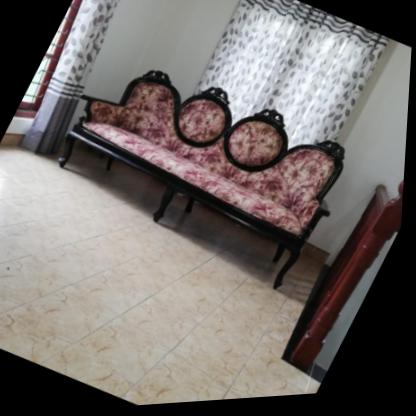Ceramic floor: (0, 150, 325, 408)
Curtains: (199, 0, 390, 146), (23, 0, 122, 157)
Sofa: (28, 29, 373, 314)
